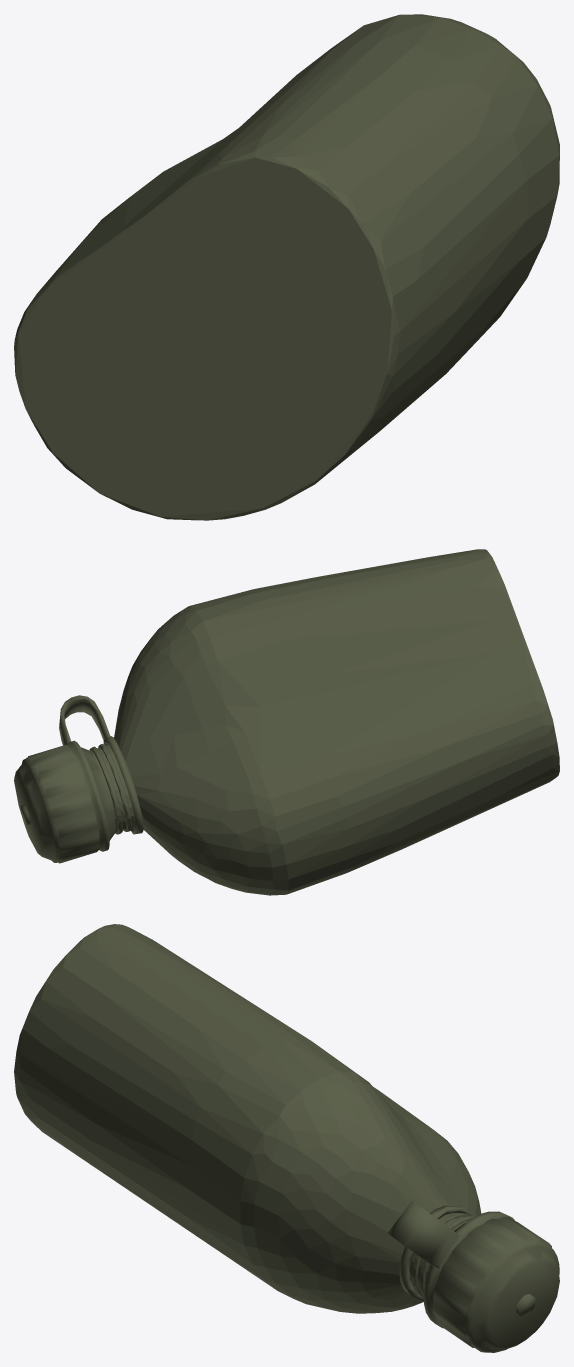
Rendered from PeachesFreeCanteen.fbx.
The picture shows the model from 3 angles, top to bottom: view 1: azimuth 30°, elevation 25°; view 2: azimuth 150°, elevation 25°; view 3: azimuth 270°, elevation 25°; orthographic projection. The views are drawn at different scales.
Visible parts, largest first — view 1: Canteen; view 2: Canteen; view 3: Canteen.
Boxes of the visible parts, x1=… form: Canteen: x1=14, y1=14, x2=559, y2=520; Canteen: x1=14, y1=549, x2=559, y2=895; Canteen: x1=14, y1=924, x2=559, y2=1352.
Bounding box in the file's own units: 4.41 × 2.77 × 4.41.
